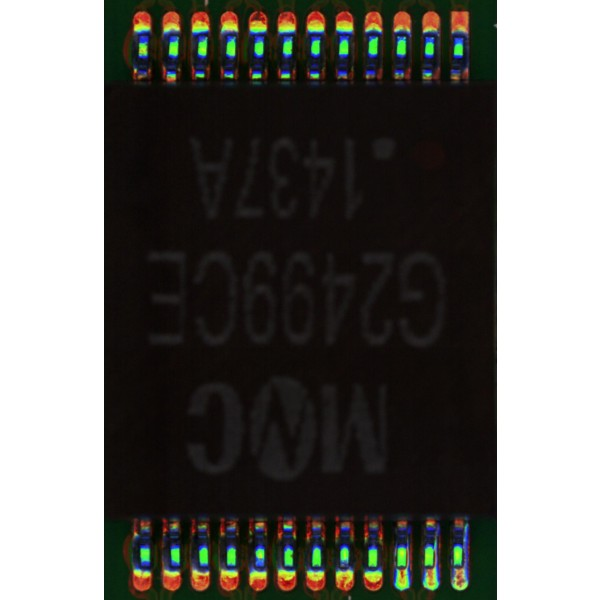Bad_podu: (397, 559, 407, 577), (426, 560, 434, 579), (454, 563, 462, 576)
Bad_qiaojiao: (464, 523, 469, 566), (435, 526, 439, 567), (406, 535, 410, 569)
